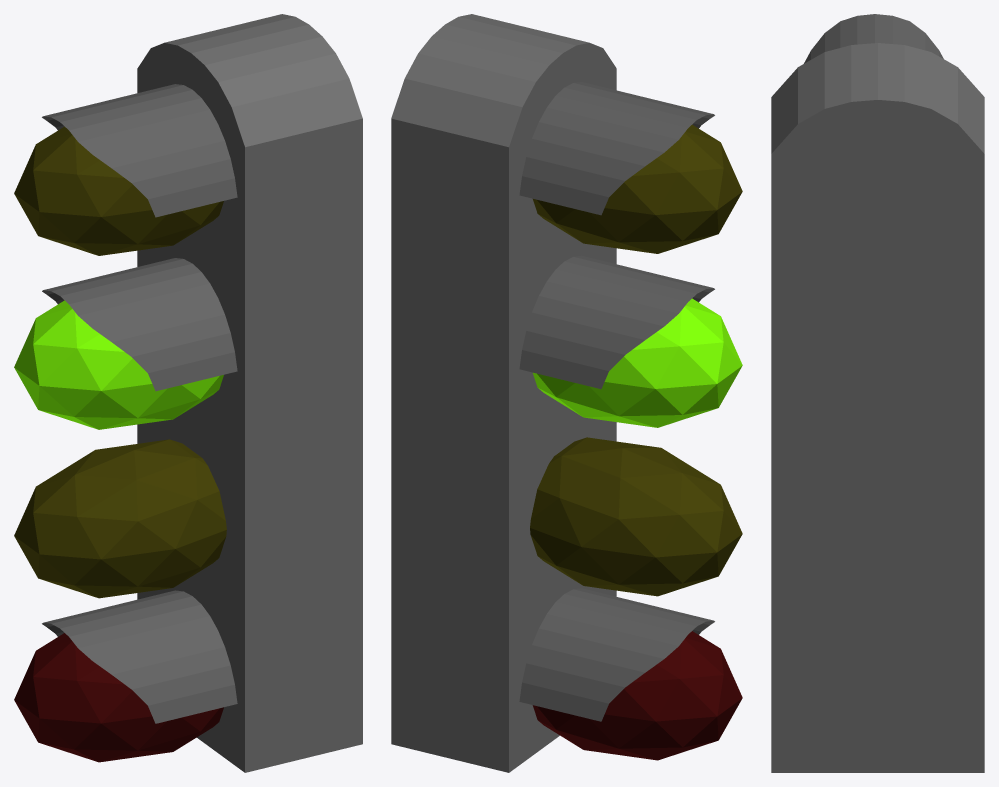
File: four-aspect-head.dae
3 renders of one model, left to right at view 1: azimuth 30°, elevation 25°; view 2: azimuth 150°, elevation 25°; view 3: azimuth 270°, elevation 25°, orthographic.
Parts seen in each view (by area): view 1: Cube_023, Icosphere_000, Cylinder_005, Cylinder_003, Cylinder_009, Icosphere_002, Icosphere_006, Icosphere_001; view 2: Cube_023, Icosphere_000, Cylinder_005, Cylinder_003, Cylinder_009, Icosphere_002, Icosphere_006, Icosphere_001; view 3: Cube_023, Cylinder_009.
Boxes of the visible parts, <box> form: Cube_023: <box>137,14,362,772</box>; Icosphere_000: <box>14,439,226,598</box>; Cylinder_005: <box>42,590,237,723</box>; Cylinder_003: <box>42,258,237,391</box>; Cylinder_009: <box>42,84,237,217</box>; Icosphere_002: <box>14,633,223,762</box>; Icosphere_006: <box>14,126,223,255</box>; Icosphere_001: <box>14,300,223,429</box>; Cube_023: <box>391,14,616,772</box>; Icosphere_000: <box>530,437,742,596</box>; Cylinder_005: <box>519,588,714,721</box>; Cylinder_003: <box>519,256,714,389</box>; Cylinder_009: <box>519,82,714,215</box>; Icosphere_002: <box>532,631,742,760</box>; Icosphere_006: <box>533,124,742,253</box>; Icosphere_001: <box>533,298,742,427</box>; Cube_023: <box>771,43,984,772</box>; Cylinder_009: <box>804,14,943,63</box>.
Size of the model in its own units: 0.6083 by 0.3999 by 1.4.
